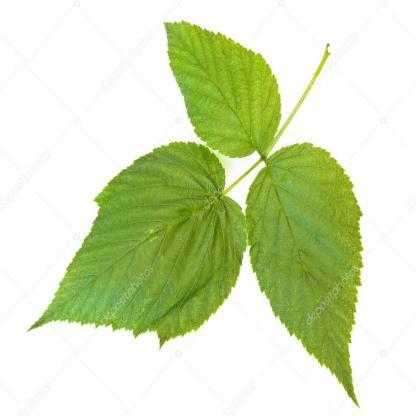Raspberry leaf: (25, 142, 248, 349), (246, 143, 363, 410), (163, 20, 284, 161)
